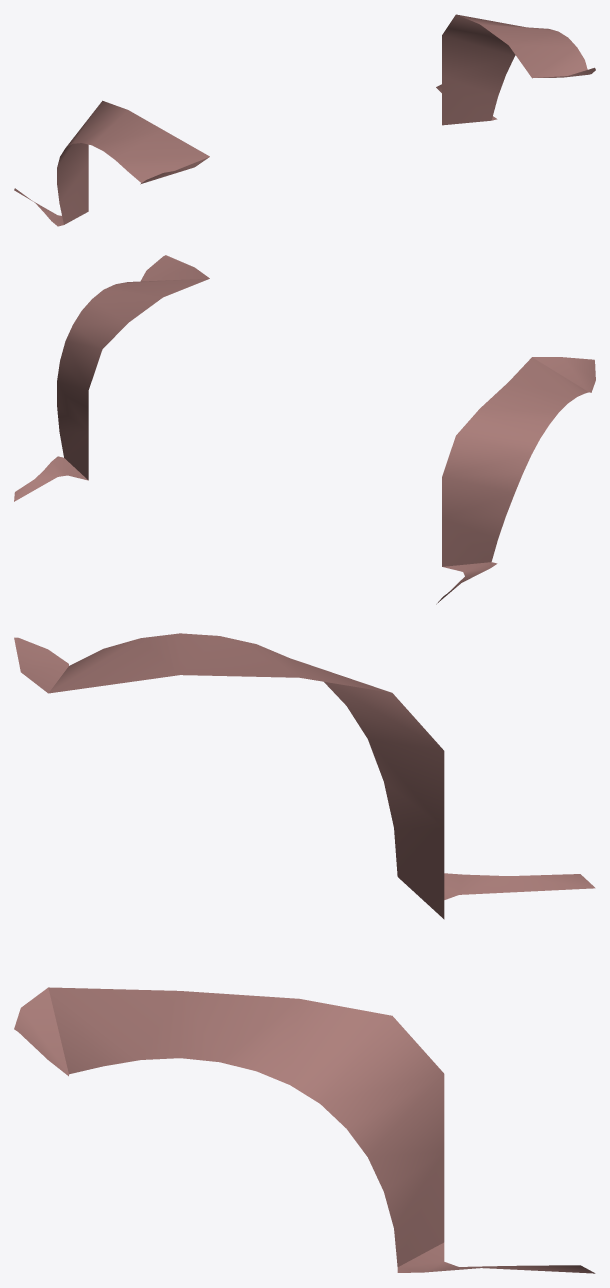
The model's file is Mustang16_Fender_02_Trim.fbx.
3 renders of one model, top to bottom at view 1: azimuth 30°, elevation 25°; view 2: azimuth 150°, elevation 25°; view 3: azimuth 270°, elevation 25°, orthographic. The views are drawn at different scales.
Parts seen in each view (by area): view 1: Mustang16_Fender_02_Trim; view 2: Mustang16_Fender_02_Trim; view 3: Mustang16_Fender_02_Trim.
Boxes of the visible parts, left/top/right/bottom form: Mustang16_Fender_02_Trim: left=14, top=14, right=595, bottom=226; Mustang16_Fender_02_Trim: left=14, top=255, right=595, bottom=604; Mustang16_Fender_02_Trim: left=14, top=633, right=595, bottom=1273.
Bounding box in the file's own units: 190 × 51.31 × 109.
